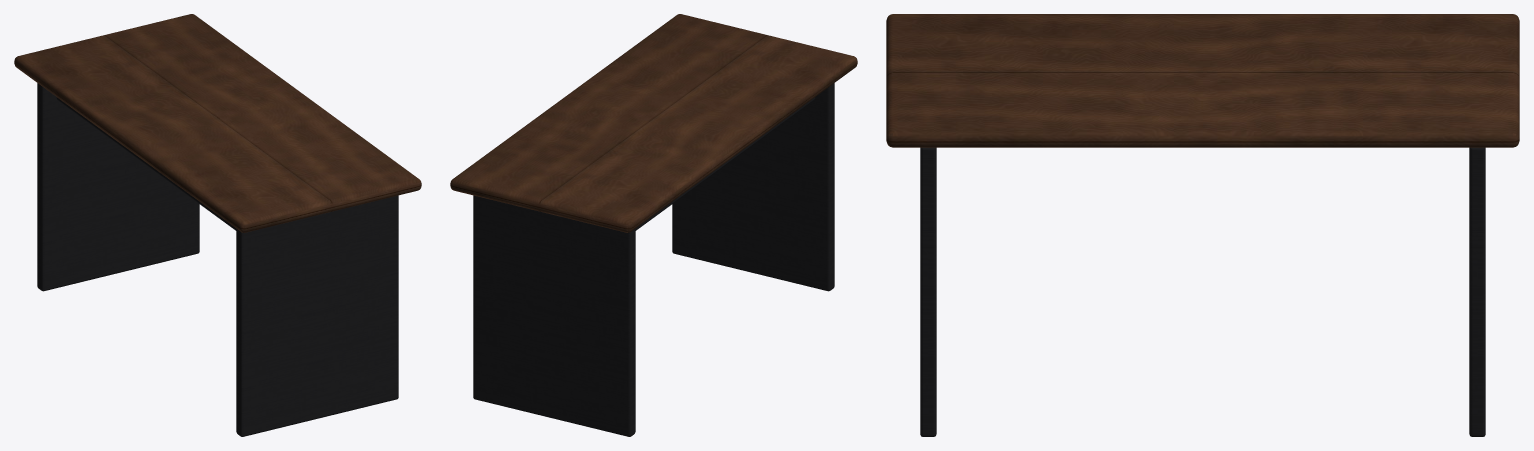
Rendered from bed2_desk.glb.
The picture shows the model from 3 angles, left to right: view 1: azimuth 30°, elevation 25°; view 2: azimuth 150°, elevation 25°; view 3: azimuth 270°, elevation 25°; orthographic projection. The views are drawn at different scales.
Visible parts, largest first — view 1: bed2_desk; view 2: bed2_desk; view 3: bed2_desk.
Part boxes in pixels (x1,y1,x2,y2): bed2_desk: (14, 14, 421, 436); bed2_desk: (450, 14, 857, 436); bed2_desk: (886, 14, 1519, 436).
Bounding box in the file's own units: 0.62 × 0.74 × 1.36.
Materials: 2 (2 with a texture image).
